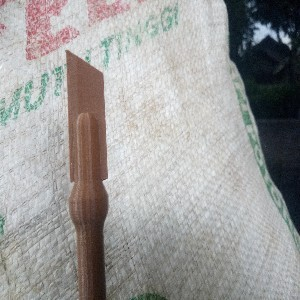cutter: (65, 47, 109, 300)
